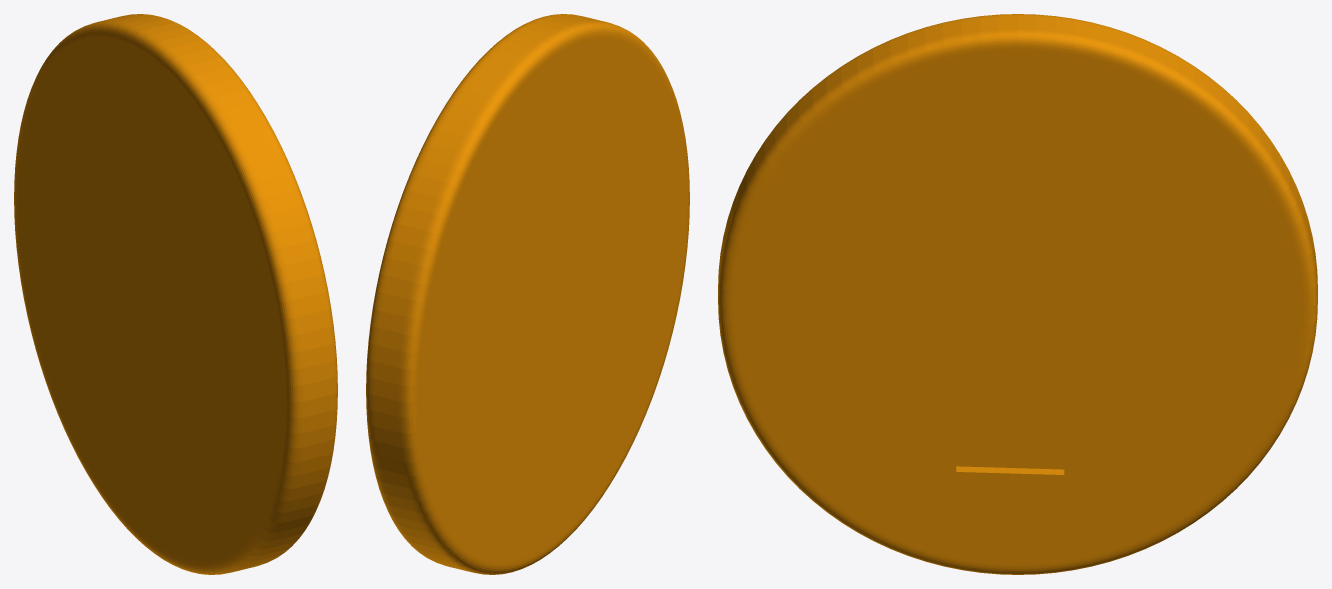
The model's file is BlenderCoinMaterials.gltf.
3 views of the same model, side by side, from view 1: azimuth 30°, elevation 25°; view 2: azimuth 150°, elevation 25°; view 3: azimuth 270°, elevation 25° (orthographic). The views are drawn at different scales.
Visible parts, largest first — view 1: Circle; view 2: Circle; view 3: Circle.
Boxes of the visible parts, x1=… form: Circle: x1=14, y1=14, x2=337, y2=574; Circle: x1=366, y1=14, x2=689, y2=574; Circle: x1=718, y1=14, x2=1317, y2=574.
Bounding box in the file's own units: 0.2 × 2 × 2.
